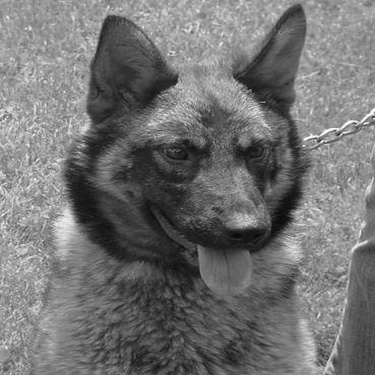dog: (3, 1, 335, 372)
